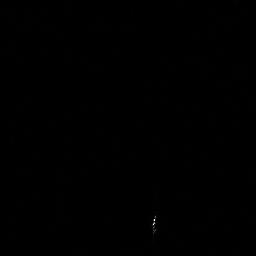ship: (148, 212, 159, 238)
